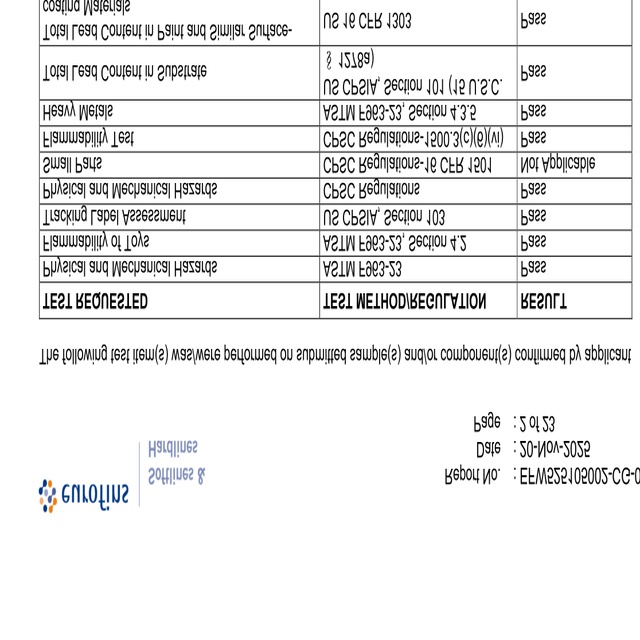eurofins: (33, 478, 133, 519)
